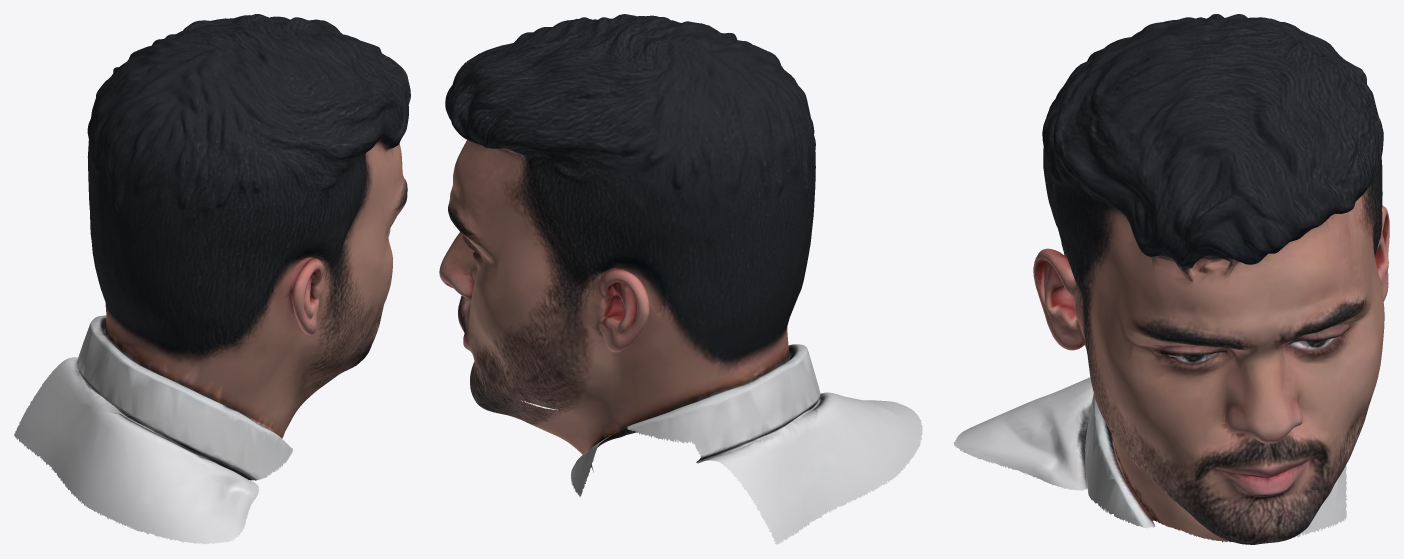
The picture shows the model from 3 angles, left to right: view 1: azimuth 30°, elevation 25°; view 2: azimuth 150°, elevation 25°; view 3: azimuth 270°, elevation 25°; orthographic projection. The views are drawn at different scales.
Parts seen in each view (by area): view 1: tripo_node_37656aca-e6ff-437d-8b07-957e4a3f36e5; view 2: tripo_node_37656aca-e6ff-437d-8b07-957e4a3f36e5; view 3: tripo_node_37656aca-e6ff-437d-8b07-957e4a3f36e5.
Part boxes in pixels (x1,y1,x2,y2): tripo_node_37656aca-e6ff-437d-8b07-957e4a3f36e5: (14,14,410,544); tripo_node_37656aca-e6ff-437d-8b07-957e4a3f36e5: (439,14,922,544); tripo_node_37656aca-e6ff-437d-8b07-957e4a3f36e5: (953,14,1389,544).
Bounding box in the file's own units: 0.4946 × 0.5238 × 0.4322.
1 material, 1 textured.
